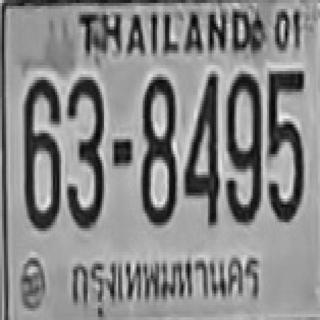N03: (65, 74, 102, 225)
N04: (183, 71, 218, 222)
N05: (266, 68, 303, 219)
N06: (22, 76, 59, 226)
N08: (141, 74, 175, 222)
N09: (224, 71, 261, 222)
P04: (65, 243, 269, 320)
